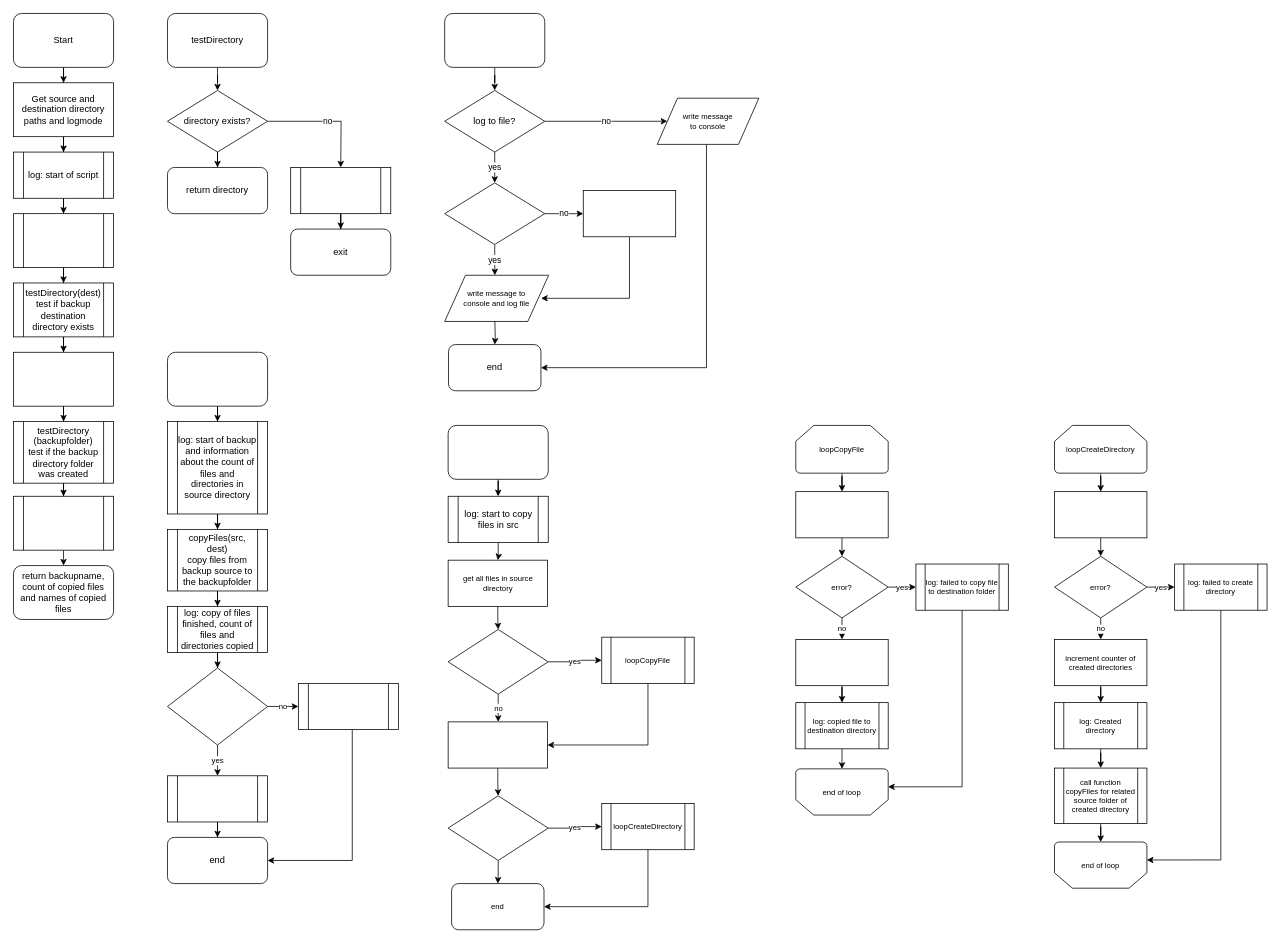
Image size: 1281x943. Some labels were removed from this diagram. The centre of each missing label's shape, as x and y in pixels:
"copy file from source to destination directory" belongs at point 841,514.
"copyFiles" belongs at point 497,452.
"count of dirs and files in src and dest equal?" belongs at point 217,706.
"create backupfolder in destination" belongs at point 63,379.
"create directory in destination directory" belongs at point 1100,514.
"create logfile" belongs at point 629,213.
"directories in source directory?" belongs at point 497,827.
"files in source directory?" belongs at point 497,661.
"get all directories in source directory" belongs at point 497,744.
"log" belongs at point 494,40.
"log error message" belongs at point 340,190.
"log: backup failed" belongs at point 348,706.
"log: backup succesful" belongs at point 217,798.
"logfile exists?" belongs at point 494,213.
"makeBackup" belongs at point 217,379.
"makeBackup (src, backupfolder)" belongs at point 63,522.
"save file name in array, increment counter of copied files" belongs at point 841,662.
"testDirectory(src) test if backup source directory exists" belongs at point 63,240.
